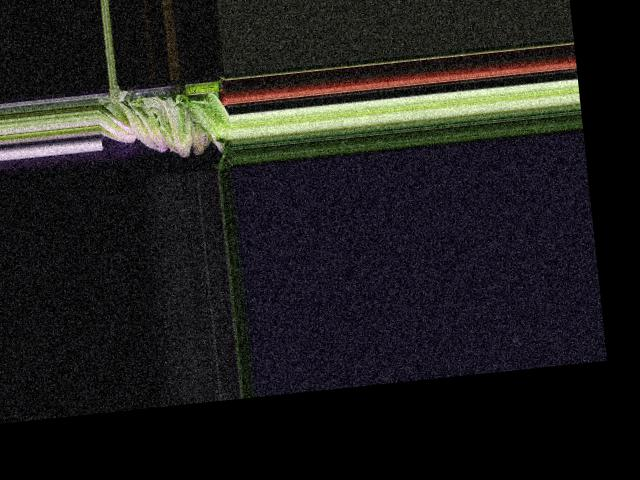lettuce: (97, 102, 140, 147)
